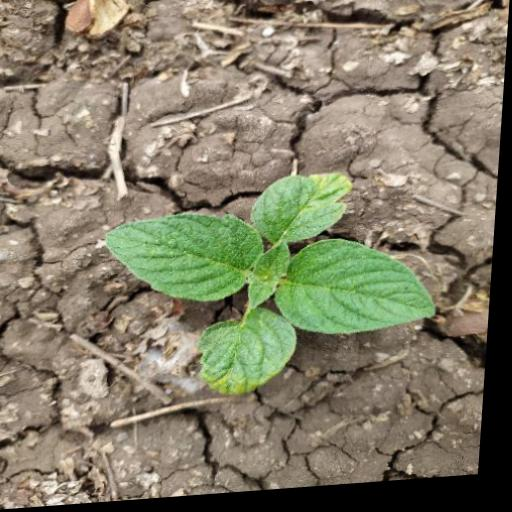crop: (87, 159, 454, 419)
